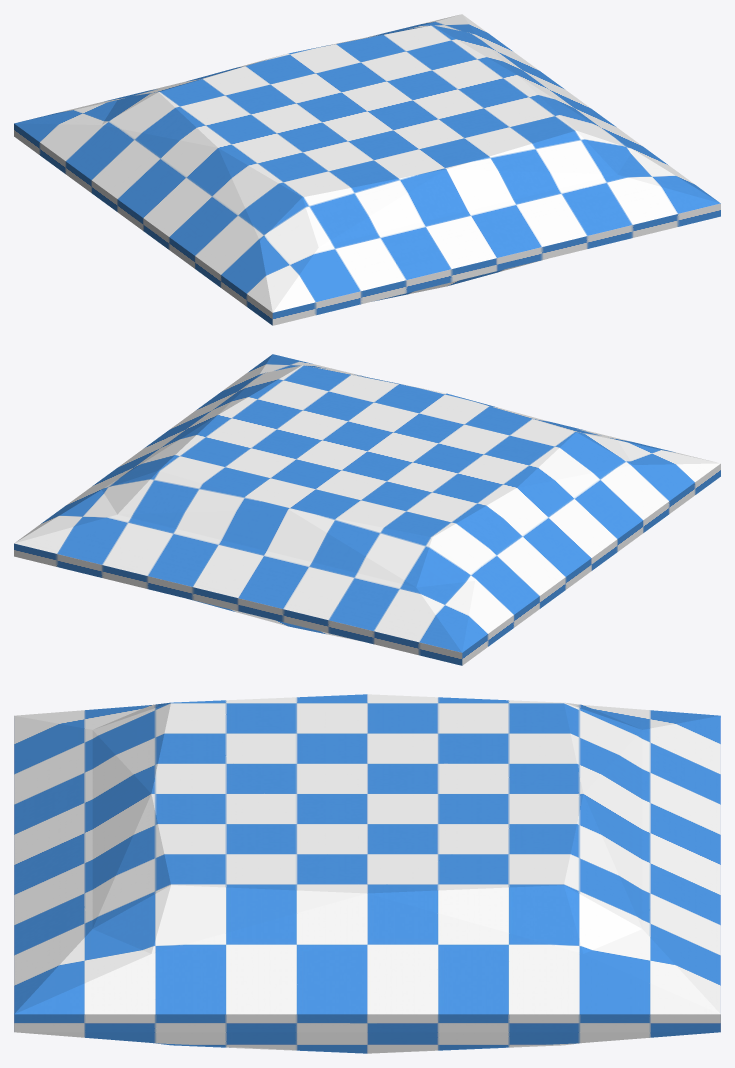
File: PrincessCutDouble.FBX
The picture shows the model from 3 angles, top to bottom: view 1: azimuth 30°, elevation 25°; view 2: azimuth 150°, elevation 25°; view 3: azimuth 270°, elevation 25°; orthographic projection. The views are drawn at different scales.
Visible parts, largest first — view 1: PrincessCutDouble; view 2: PrincessCutDouble; view 3: PrincessCutDouble.
Part boxes in pixels (left/top/right/bottom): PrincessCutDouble: left=14, top=14, right=720, bottom=325; PrincessCutDouble: left=14, top=354, right=720, bottom=665; PrincessCutDouble: left=14, top=694, right=720, bottom=1053.
Bounding box in the file's own units: 1.14 × 0.2858 × 1.14.
